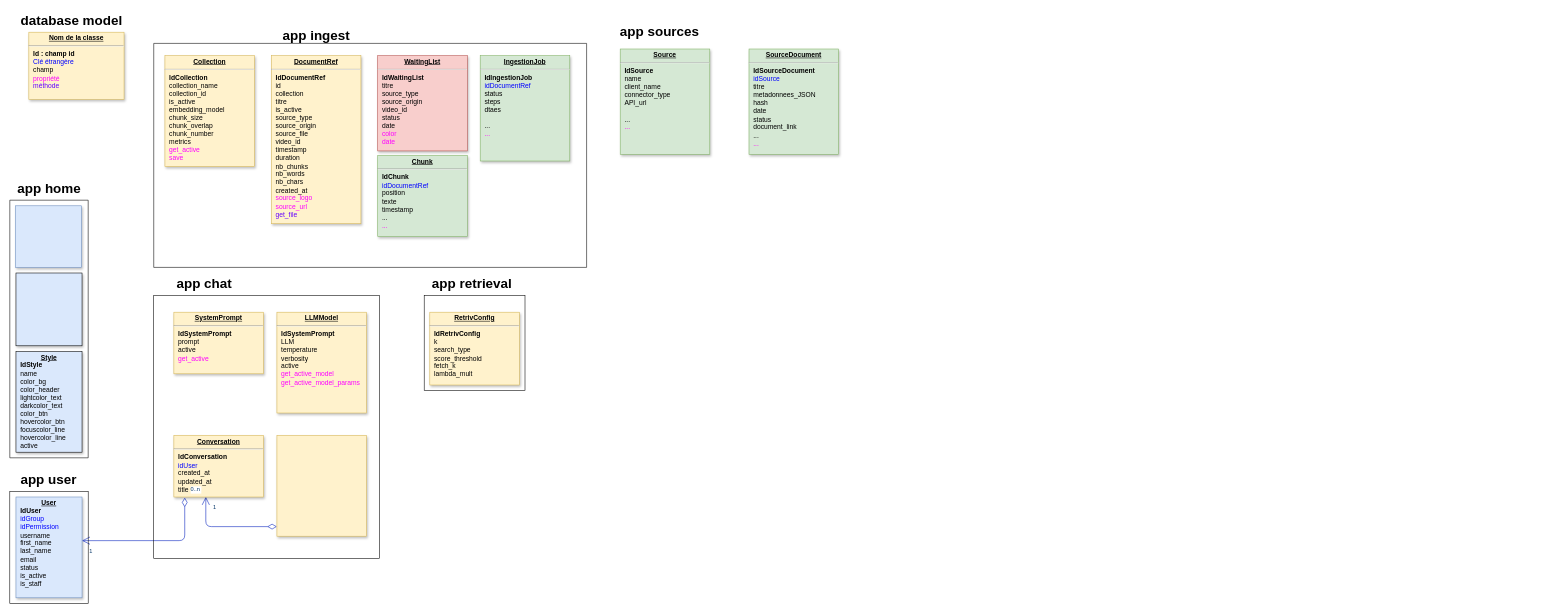
Image size: 1548x613. Some labels were removed from this diagram. The shapes that lost their labels are listed below. From the top down, each one's centre as x and y in pixels, then its label:
the point at 49,237: DefaultContent IdDefaultContent description explication contenu image fichier
the point at 49,310: Libelles IdLibelles description explication contenu image fichier lien
the point at 322,486: Message IdMessage idConversation prompt id role content created_at chunks_used
